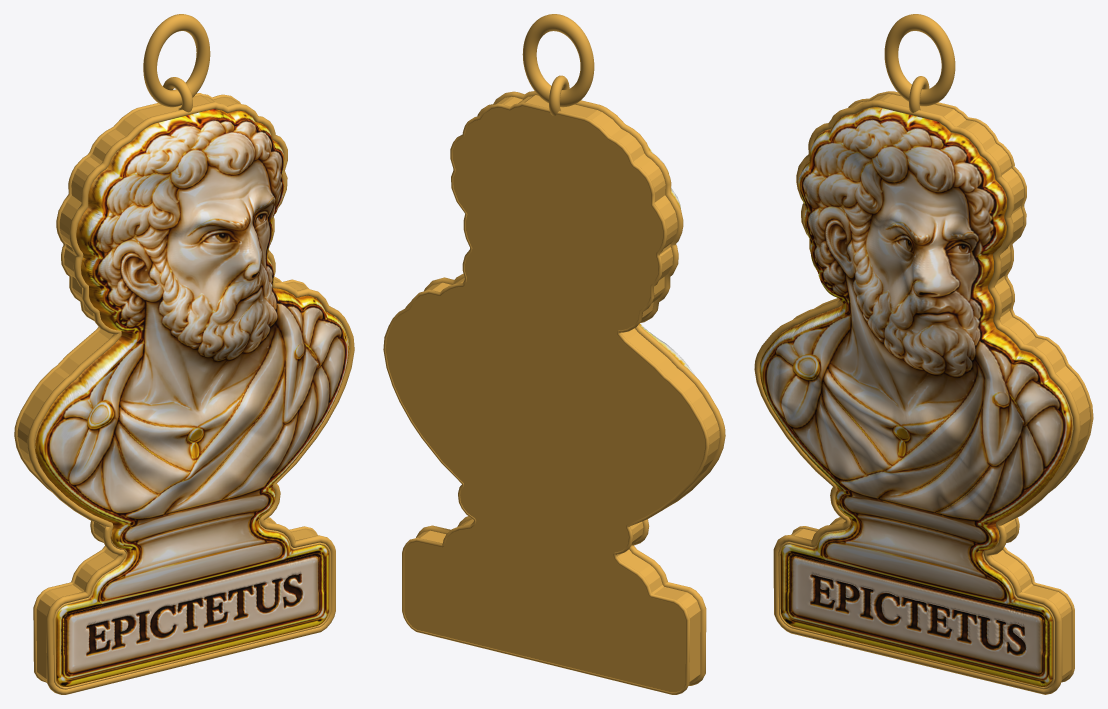
File: 04_epictetus.glb
The picture shows the model from 3 angles, left to right: view 1: azimuth 30°, elevation 25°; view 2: azimuth 150°, elevation 25°; view 3: azimuth 330°, elevation 25°; orthographic projection.
Visible parts, largest first — view 1: 04_epictetus | sculpted enamel on solid metal, 04_epictetus | rounded cast gold outer rim, 04_epictetus | oval gold jump ring, 04_epictetus | rounded gold rear edge, 04_epictetus | fine inner gold bezel, 04_epictetus | soldered bail; view 2: 04_epictetus | sculpted enamel on solid metal, 04_epictetus | rounded gold rear edge, 04_epictetus | rounded cast gold outer rim, 04_epictetus | oval gold jump ring; view 3: 04_epictetus | sculpted enamel on solid metal, 04_epictetus | rounded cast gold outer rim, 04_epictetus | oval gold jump ring, 04_epictetus | rounded gold rear edge, 04_epictetus | fine inner gold bezel.
Part boxes in pixels (bbox=[...]): 04_epictetus | sculpted enamel on solid metal: bbox=[17, 95, 349, 686]; 04_epictetus | rounded cast gold outer rim: bbox=[27, 102, 354, 694]; 04_epictetus | oval gold jump ring: bbox=[143, 14, 210, 107]; 04_epictetus | rounded gold rear edge: bbox=[14, 93, 317, 682]; 04_epictetus | fine inner gold bezel: bbox=[34, 316, 349, 689]; 04_epictetus | soldered bail: bbox=[163, 77, 192, 112]; 04_epictetus | sculpted enamel on solid metal: bbox=[385, 95, 719, 692]; 04_epictetus | rounded gold rear edge: bbox=[383, 102, 709, 694]; 04_epictetus | rounded cast gold outer rim: bbox=[405, 91, 725, 685]; 04_epictetus | oval gold jump ring: bbox=[522, 14, 594, 107]; 04_epictetus | sculpted enamel on solid metal: bbox=[759, 94, 1090, 686]; 04_epictetus | rounded cast gold outer rim: bbox=[754, 100, 1080, 694]; 04_epictetus | oval gold jump ring: bbox=[884, 14, 955, 106]; 04_epictetus | rounded gold rear edge: bbox=[792, 91, 1093, 682]; 04_epictetus | fine inner gold bezel: bbox=[759, 351, 1073, 689].
Bounding box in the file's own units: 0.0318 × 0.06 × 0.008.
Materials: 2 (1 with a texture image).
